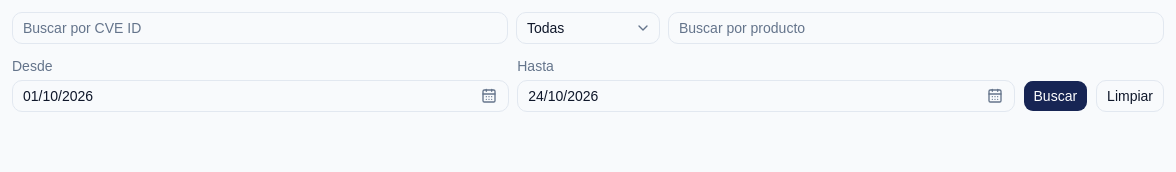
CveFilters › limpia las fechas y ejecuta el evento Limpiar
Check: the field labelled "Desde" holds "01/10/2026", box [12,80,509,112]
Click the button "Limpiar".
click(1130, 96)  # box [1096,80,1164,112]
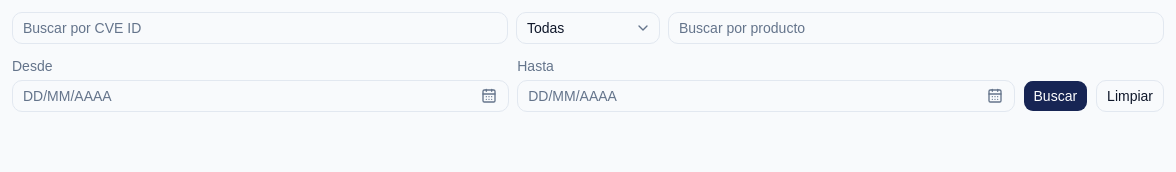
Check: the field labelled "Desde" is empty, box [12,80,509,112]
Check: the field labelled "Hasta" is empty, box [517,80,1015,112]
